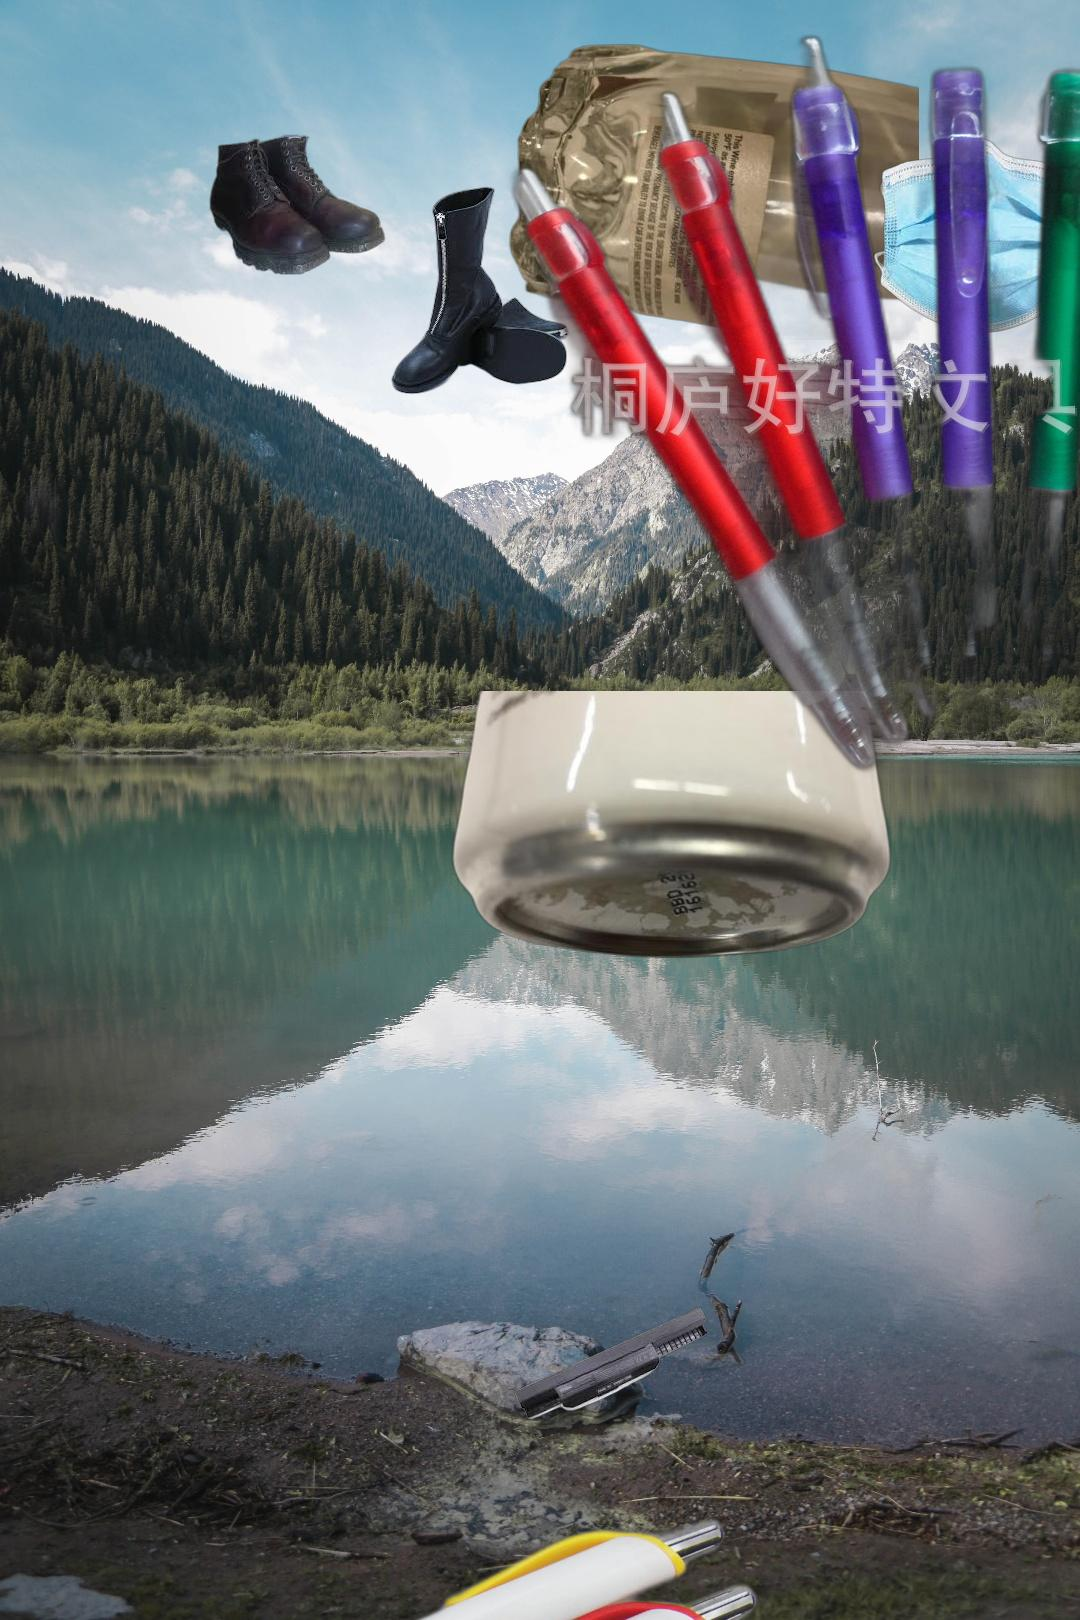battery: (512, 1305, 711, 1421)
glass: (506, 41, 918, 340)
metal-cans: (450, 691, 896, 961)
penholder: (500, 14, 1080, 884), (11, 1425, 911, 1620)
shoes: (389, 184, 571, 397), (207, 131, 388, 277)
trash: (871, 136, 1080, 335)
